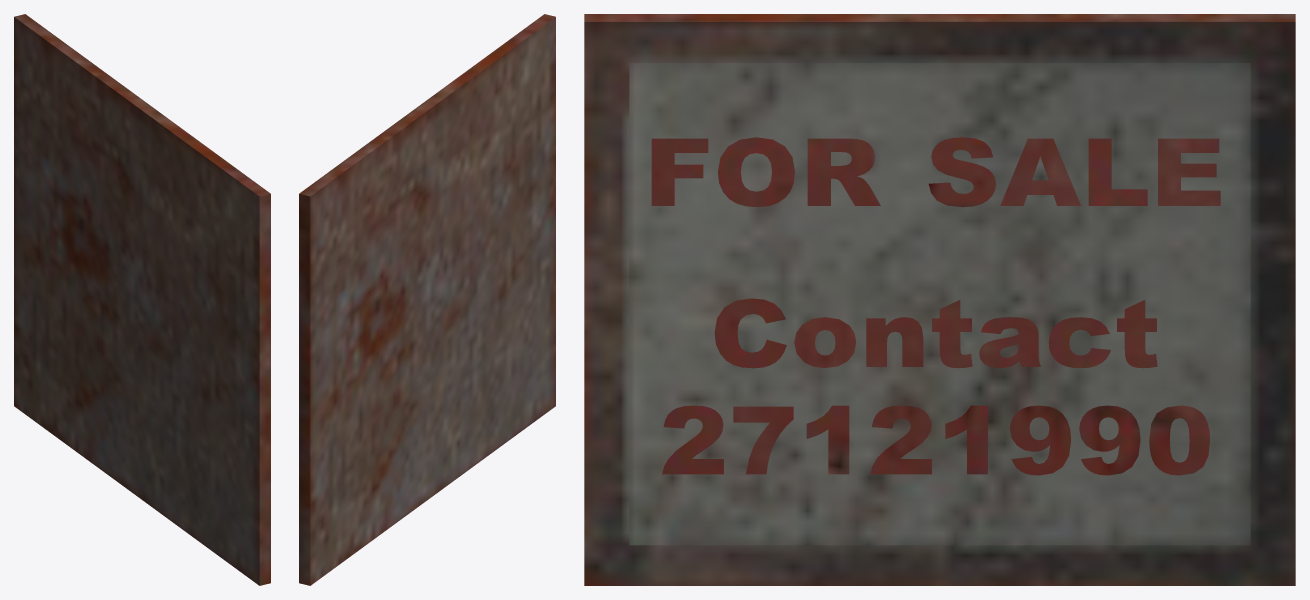
Rendered from ForSale_Advert.FBX.
3 views of the same model, side by side, from view 1: azimuth 30°, elevation 25°; view 2: azimuth 150°, elevation 25°; view 3: azimuth 270°, elevation 25° (orthographic). The views are drawn at different scales.
Visible parts, largest first — view 1: ForSale_Advert; view 2: ForSale_Advert; view 3: ForSale_Advert.
Boxes of the visible parts, <box> form: ForSale_Advert: <box>14,14,270,585</box>; ForSale_Advert: <box>299,14,555,585</box>; ForSale_Advert: <box>584,14,1295,585</box>.
Size of the model in its own units: 1.46 by 41.75 by 47.73.
